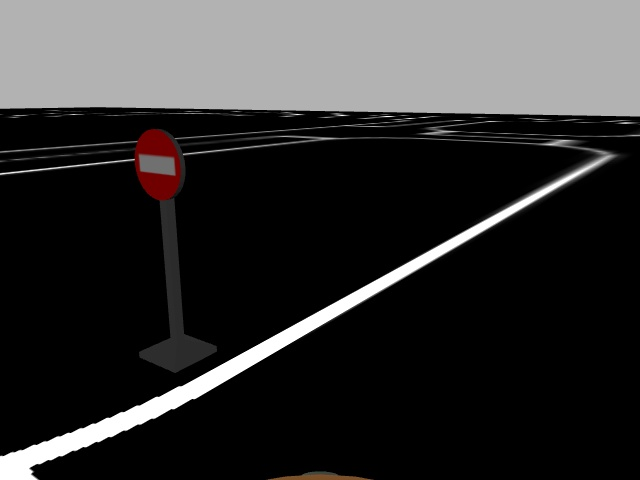prohibited: (131, 128, 188, 204)
